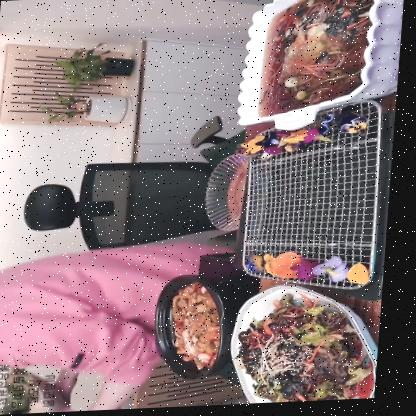streamer: (0, 240, 251, 416)
